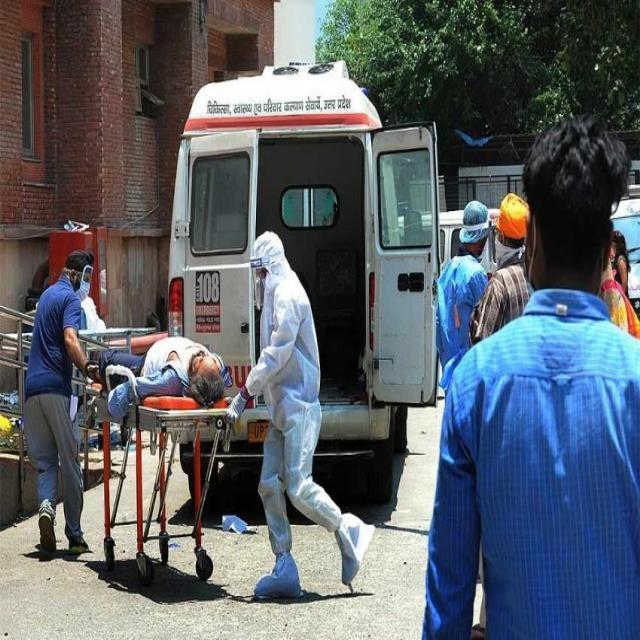emergency-vehicle: (143, 37, 446, 501)
